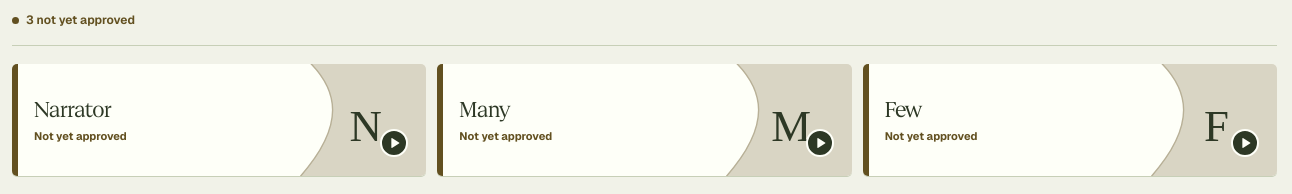
Test: CastVoiceReview › plays the current preview from a tile without opening the inspector
Expected: the text "M" is shown, [771,104,808,149]
Click the button named "Play Many preview" at (790, 127), box [742,87,838,167]
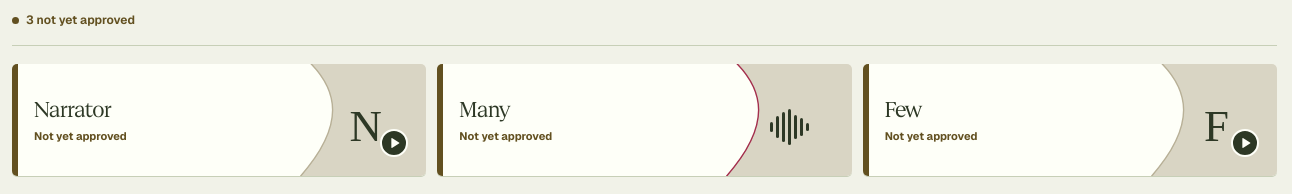
Now the button named "Stop Many preview" is pressed
Click the button named "Stop Many preview" at (790, 127), box [742,87,838,167]
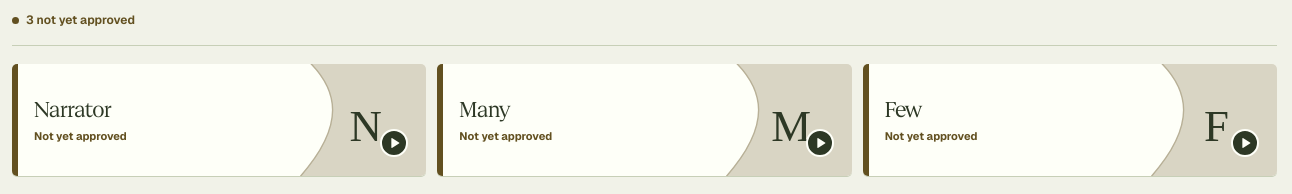
Now the text "M" is shown, box [771,104,808,149]
